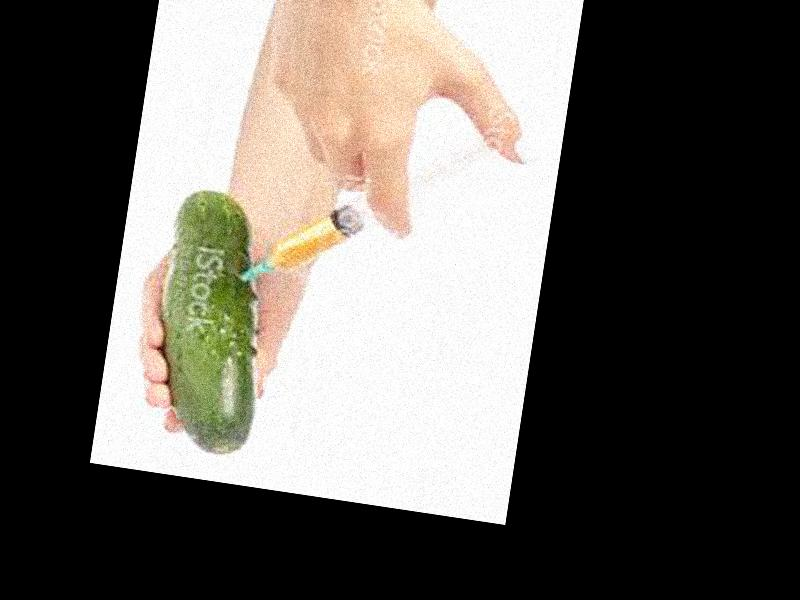Cucumber: (147, 187, 284, 460)
